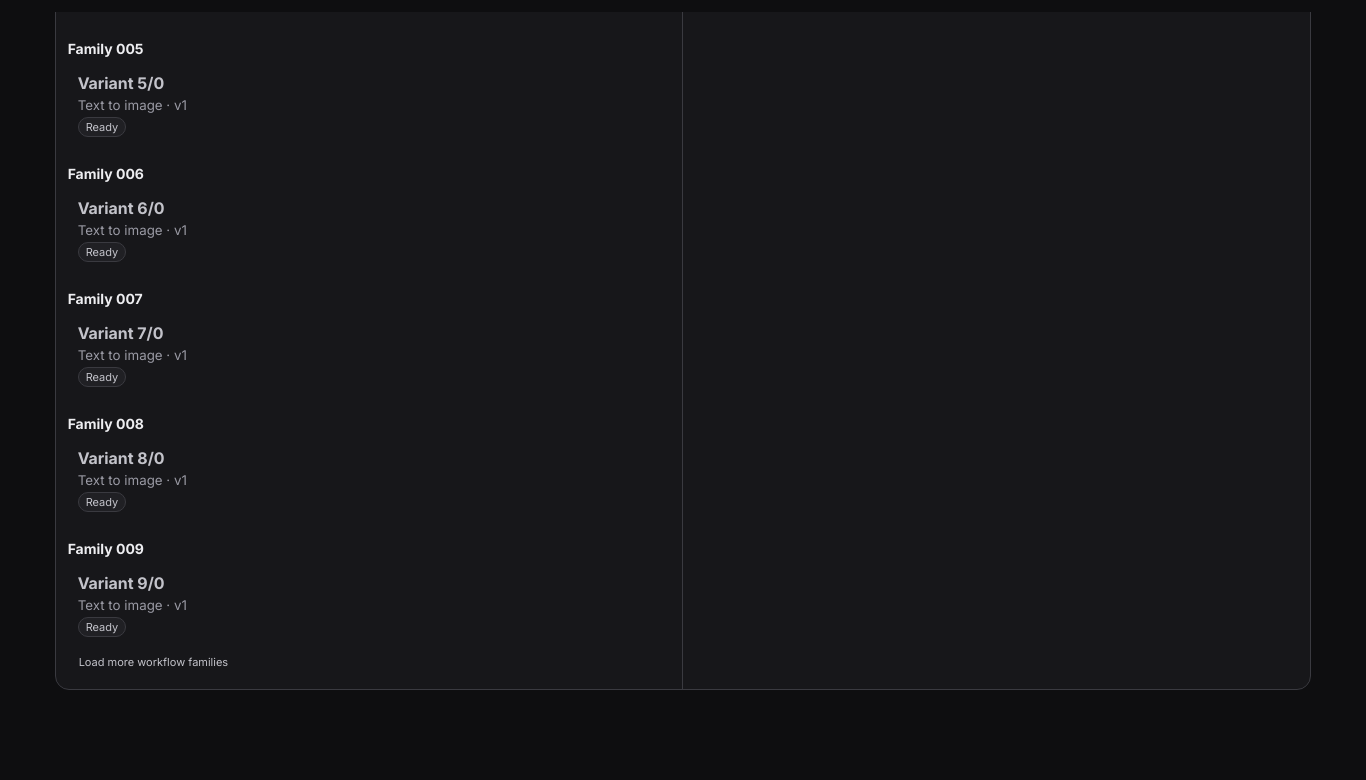
Test case: retries a failed family page without discarding the current families
(page scrolled)
Click the button "Load more workflow families": {"x": 153, "y": 662} [68, 647, 239, 677]
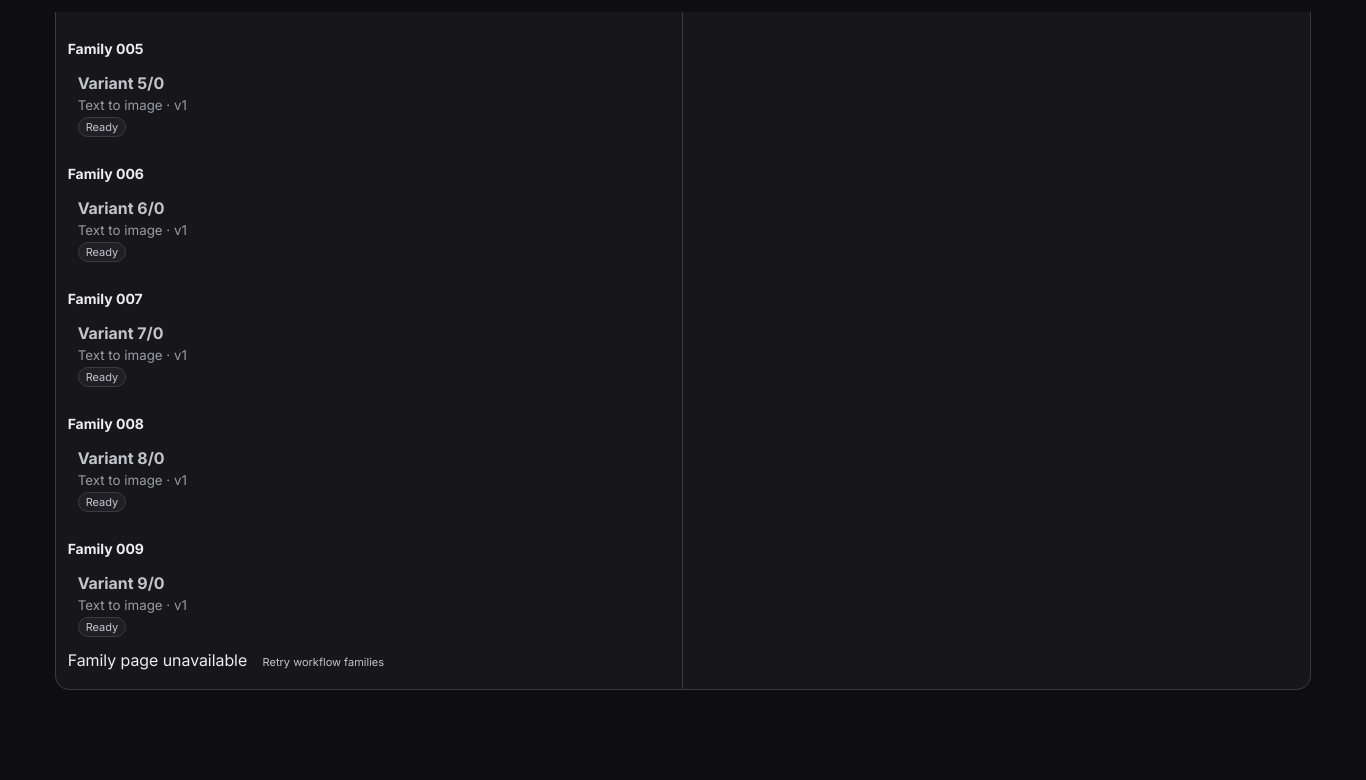
expect the text "Family page unavailable" is shown: met, box [68, 650, 247, 670]
Click the button "Retry workflow families": {"x": 323, "y": 662} [252, 647, 395, 677]
(page scrolled)
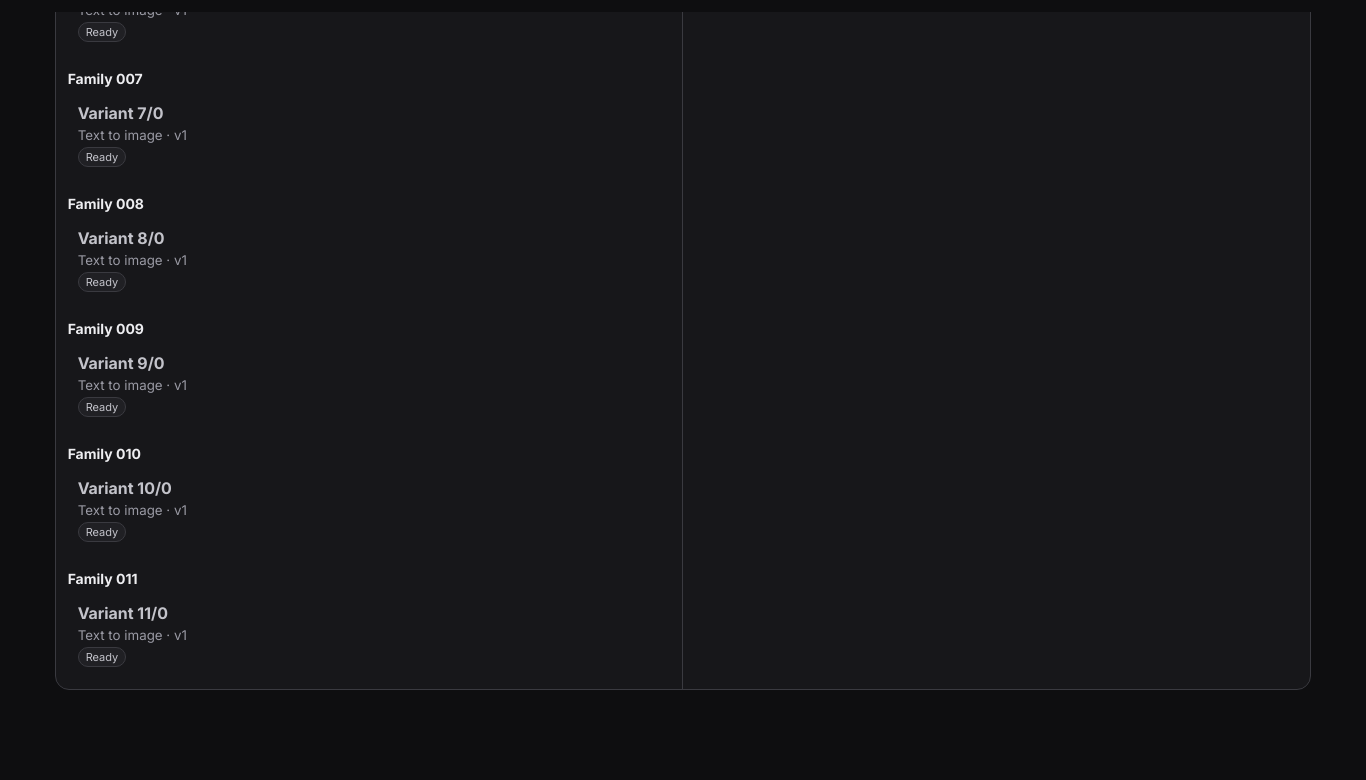
expect the heading "Family 011" is shown: met, box [68, 570, 138, 587]
